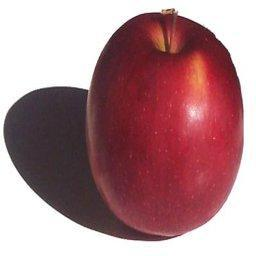apple: (85, 11, 244, 235)
